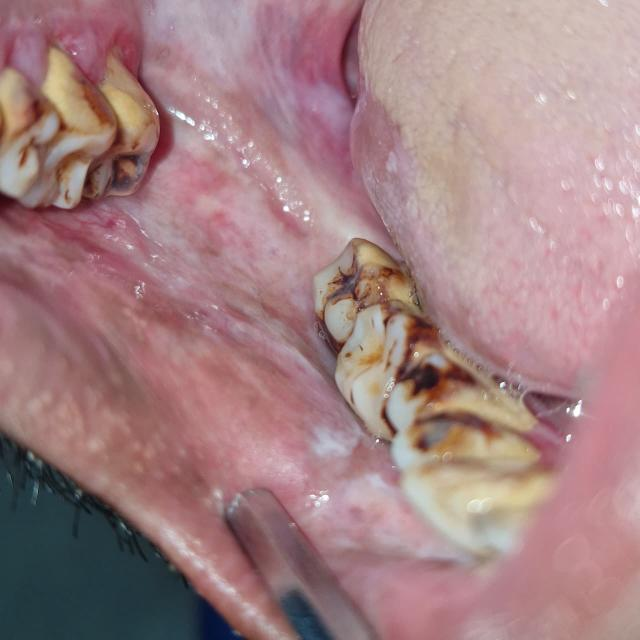leukoplakia-like-detection: (0, 0, 460, 579)
processing_area: (0, 0, 640, 640)
